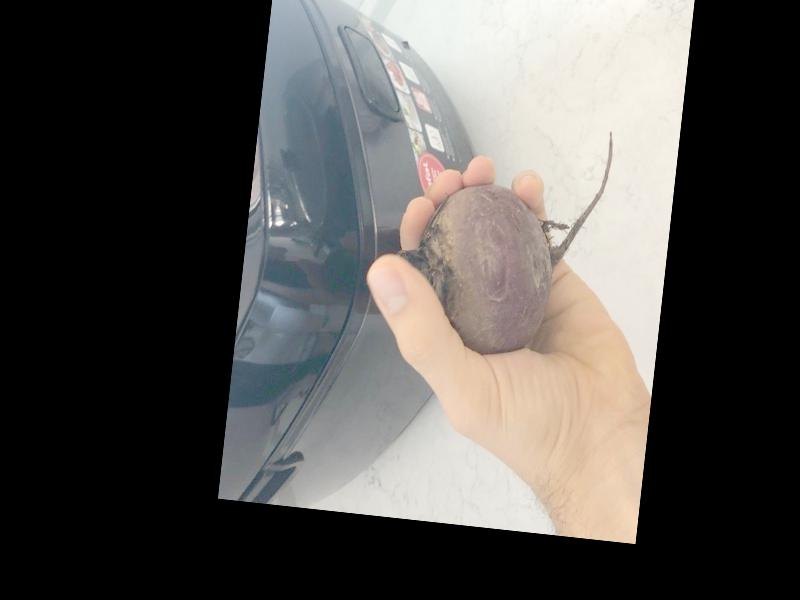Beet: (390, 110, 614, 364)
